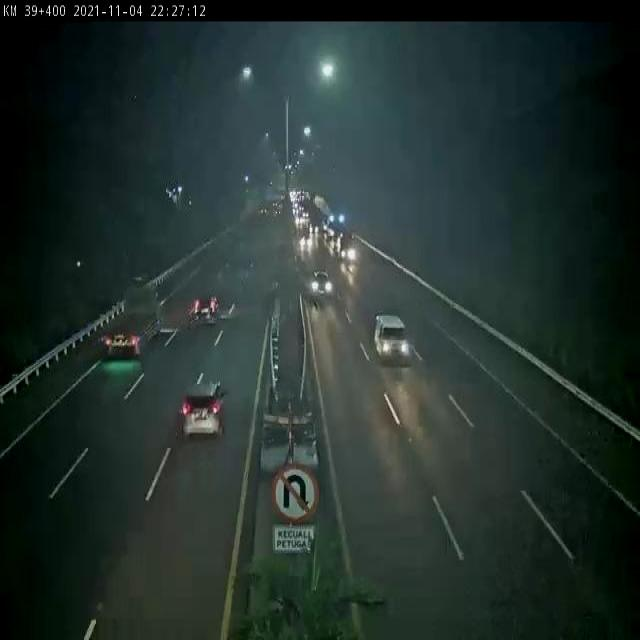Car: (175, 379, 233, 447), (366, 310, 416, 372), (180, 289, 227, 337), (306, 264, 340, 308), (339, 237, 359, 266)
Truck: (90, 271, 162, 361)
